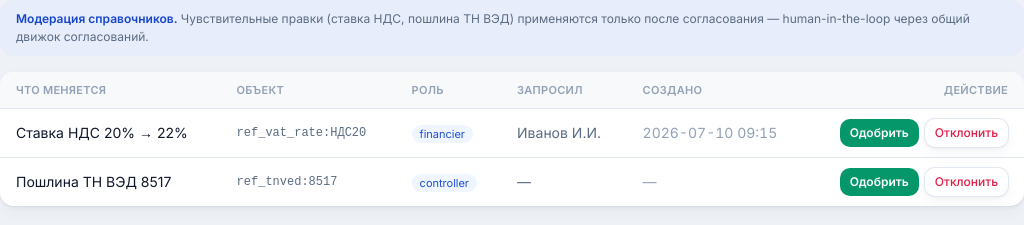
Scenario: SpravAdmin › отклонение: успешный ответ убирает строку и показывает тост «Правка отклонена»
This screenshot has width=1024, height=225.
Click the button "Отклонить" in the row of "Пошлина ТН ВЭД 8517" at (966, 182), box top-left (925, 168), bottom-right (1008, 196)
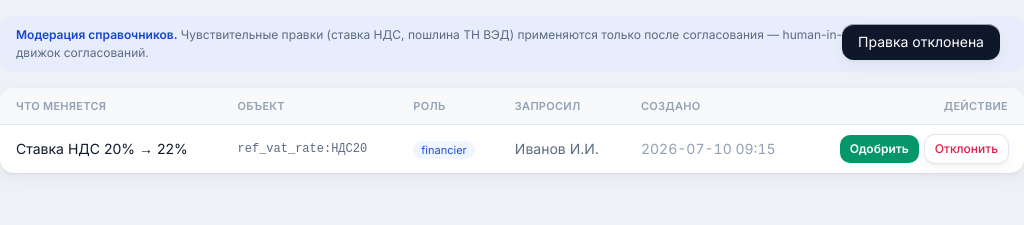
Result: the text "Правка отклонена" is shown at top-left (842, 24), bottom-right (1000, 60)
Result: the text "Пошлина ТН ВЭД 8517" is gone
